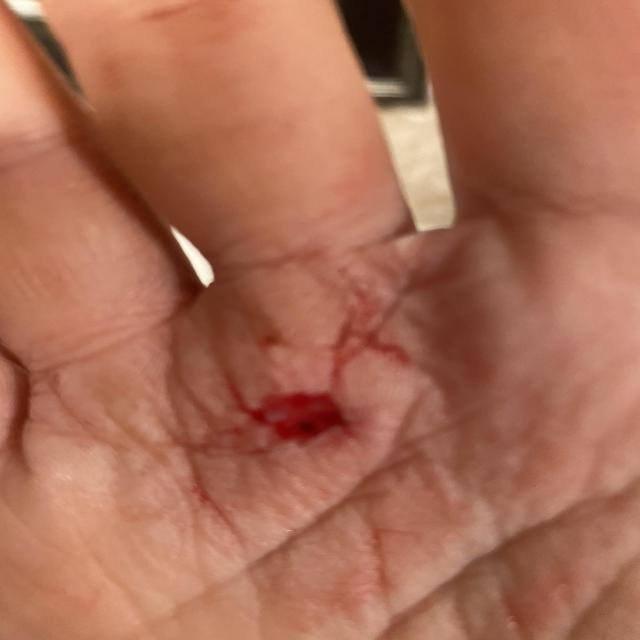Cut: (211, 379, 371, 460)
